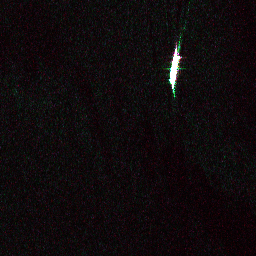ship: (167, 52, 182, 87)
